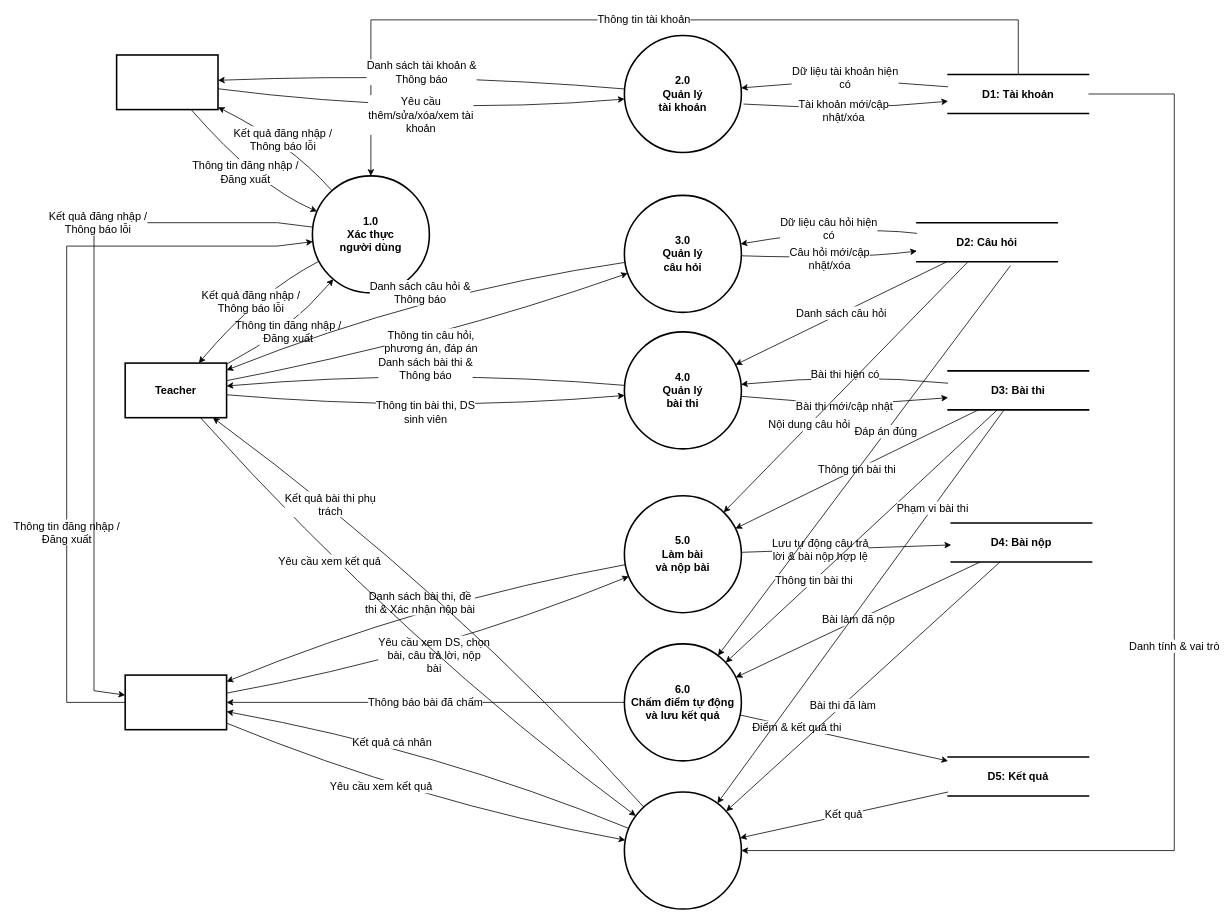
Some shapes in this 1232 by 924 pixel diagram are drawn without their labels. Each missing label, with the centre of its shape:
7.0 Xem kết quả thi: point 682,850
Admin: point 166,82
Student: point 175,702
